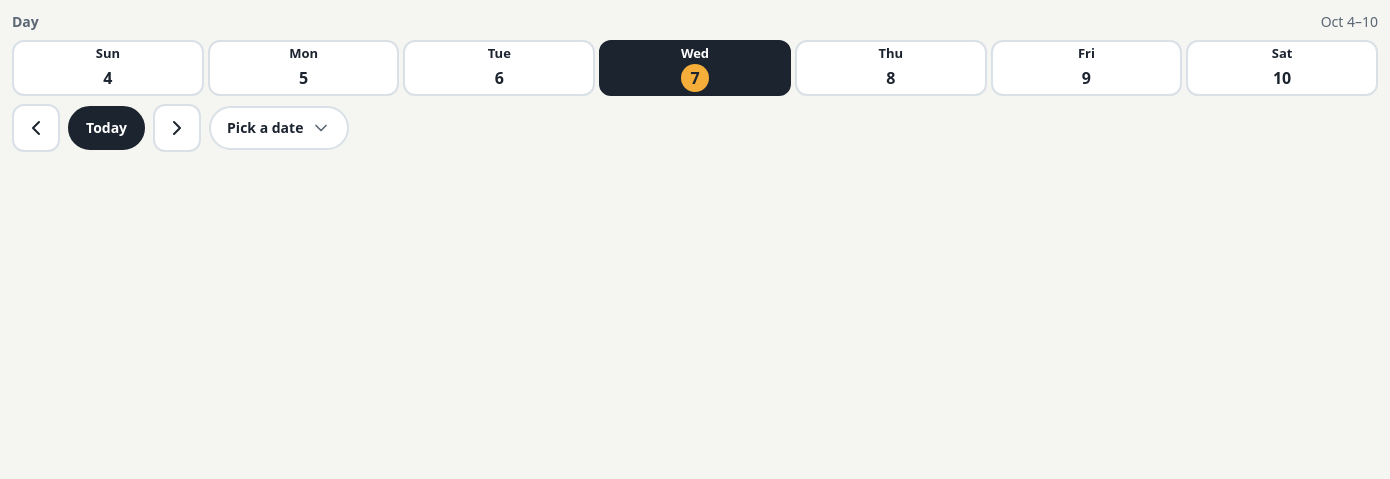
Test: a day, picked by touch (ADR 0029) › opens a month grid in place for any other day, and the strip follows
expect the text "October 2026" is not shown: met
Step 1. Click the button "Pick a date" → (279, 128), box x1=209 y1=106 x2=349 y2=150
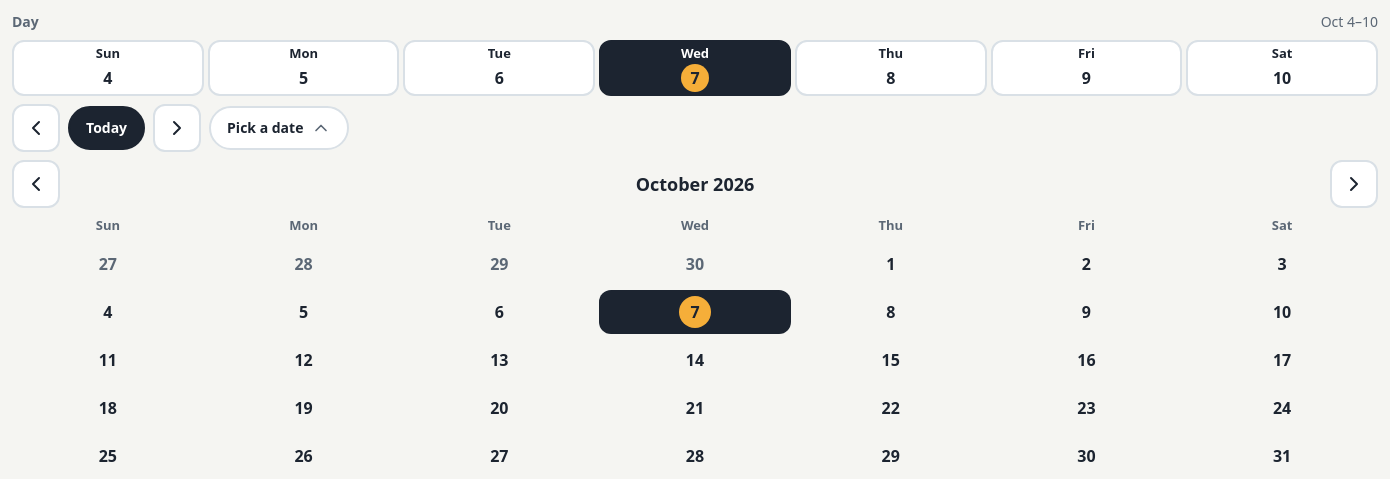
expect the button "Pick a date" is expanded: met, box x1=209 y1=106 x2=349 y2=150
Step 2. Click the button named "Next month" → (1354, 184), box x1=1330 y1=160 x2=1378 y2=208
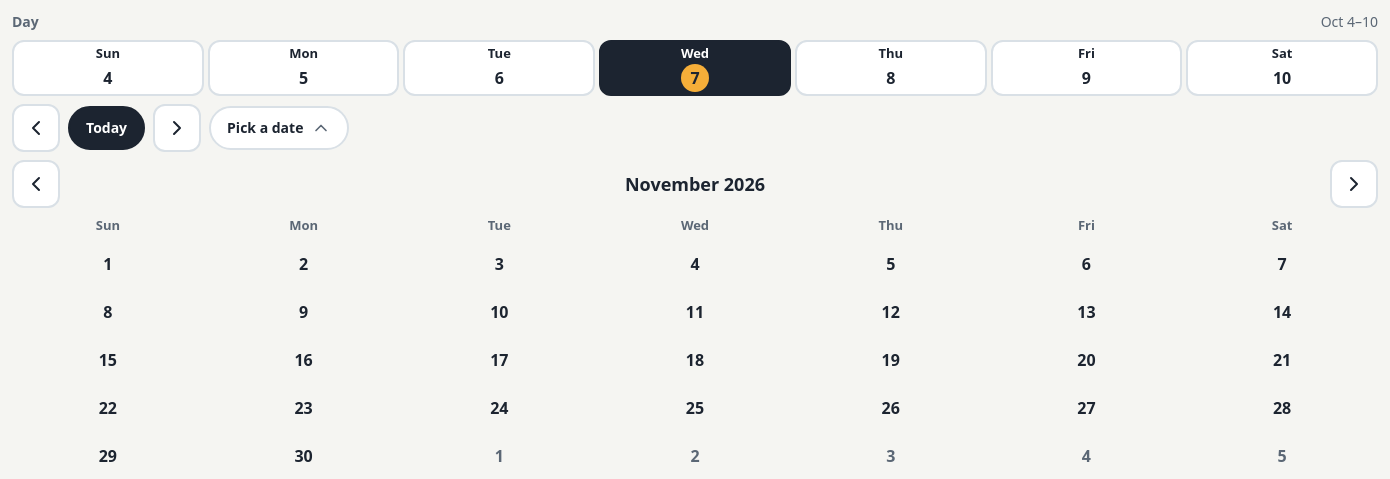
Step 3. Click the button named "November 20" → (1086, 360), box x1=991 y1=338 x2=1182 y2=382
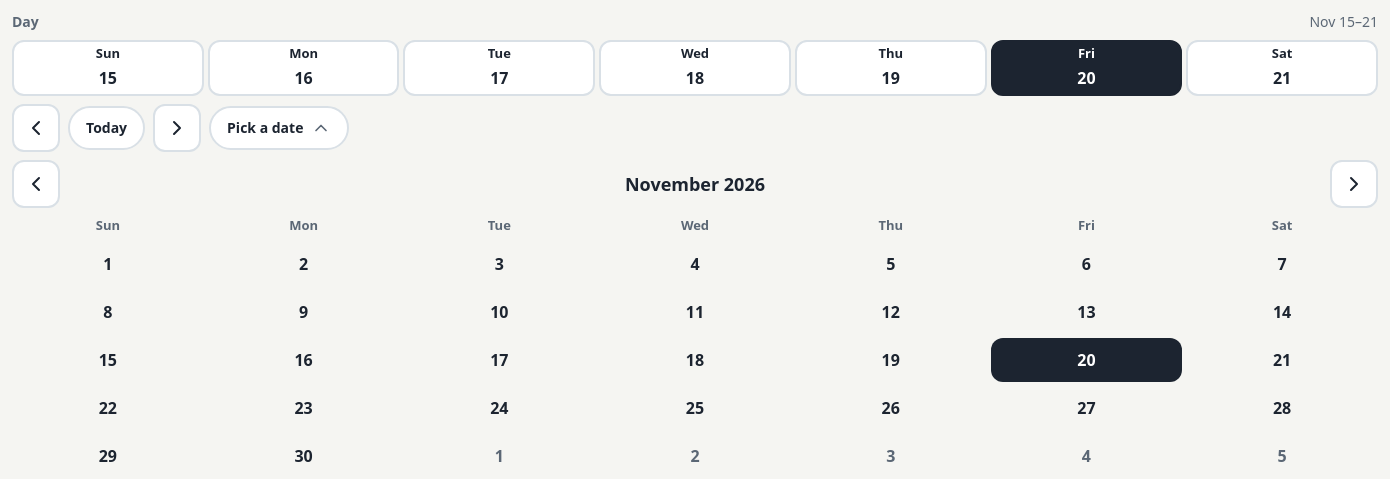
expect the text "Nov 15–21" is shown: met, box x1=1309 y1=12 x2=1378 y2=32
